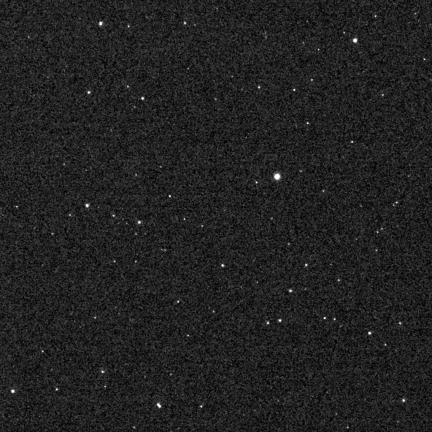blob: (353, 38, 357, 43), (99, 21, 102, 26)
